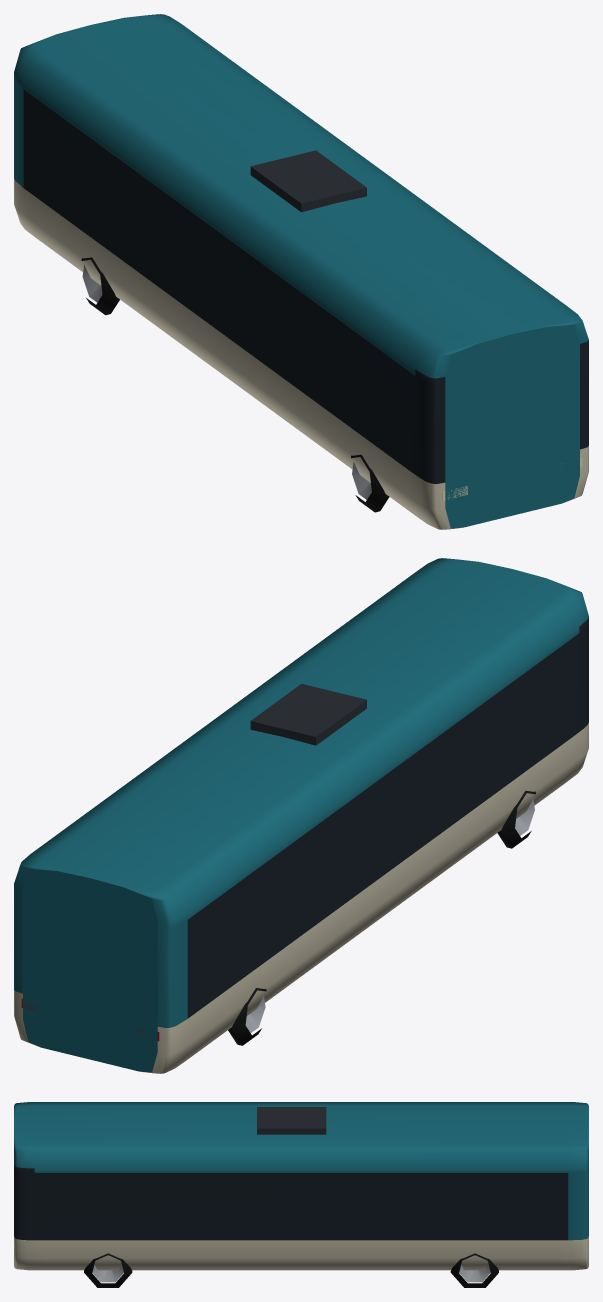
Rendered from mobile-low.glb.
3 renders of one model, top to bottom at view 1: azimuth 30°, elevation 25°; view 2: azimuth 150°, elevation 25°; view 3: azimuth 270°, elevation 25°, orthographic. The views are drawn at different scales.
Visible parts, largest first — view 1: body; view 2: body; view 3: body, tyre_fl, tyre_rl, rim_rl, rim_fl.
Part boxes in pixels (x1,y1,x2,y2): body: (14, 14, 588, 529); body: (14, 558, 588, 1073); body: (14, 1102, 588, 1270); tyre_fl: (84, 1253, 132, 1287); tyre_rl: (450, 1253, 498, 1287); rim_rl: (459, 1264, 490, 1282); rim_fl: (92, 1264, 123, 1282).
Size of what is drawn, in the model's own units: 2.64 by 3.22 by 11.6.
